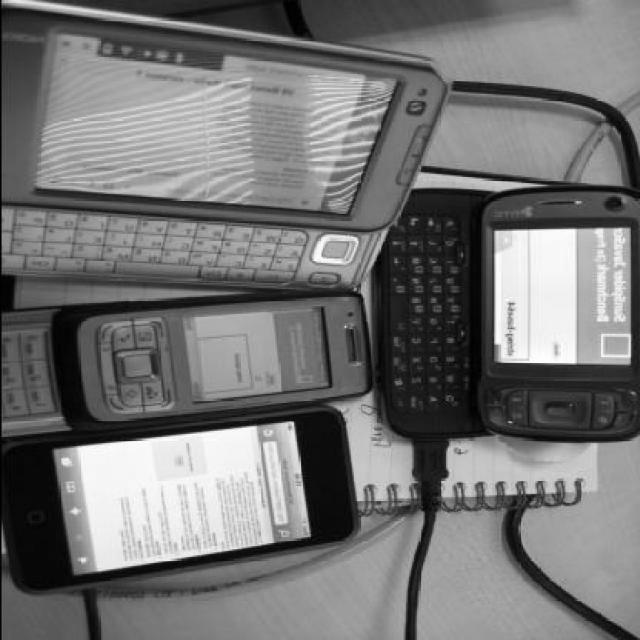fake: (0, 402, 363, 596), (374, 188, 640, 444), (56, 286, 372, 432)
